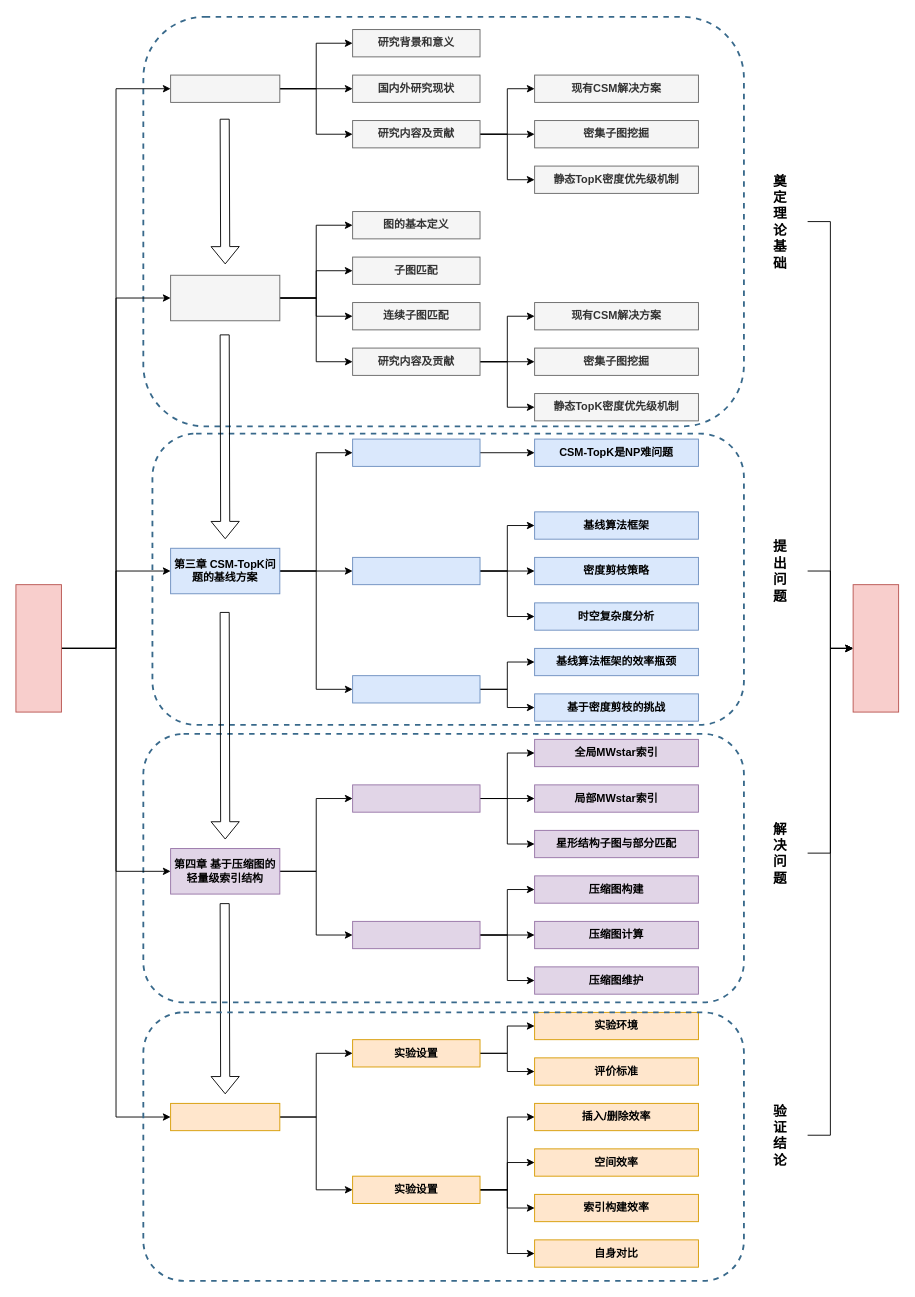
This 915x1297 diagram has some shape labels left out. Here are the shapes that lost their labels. From the top down, the centre of each, then its label:
At point 225,88: "第一章 绪论".
At point 225,297: "第二章 相关理论和技术基础".
At point 416,452: "问题定义和定理证明".
At point 416,570: "设计基线方案".
At point 38,648: "本 文 组 织 架 构".
At point 875,648: "研 究 结 论 与 展 望".
At point 416,689: "技术挑战".
At point 416,798: "轻量级索引".
At point 416,934: "图压缩技术".
At point 225,1116: "第五章 实验结果分析".
